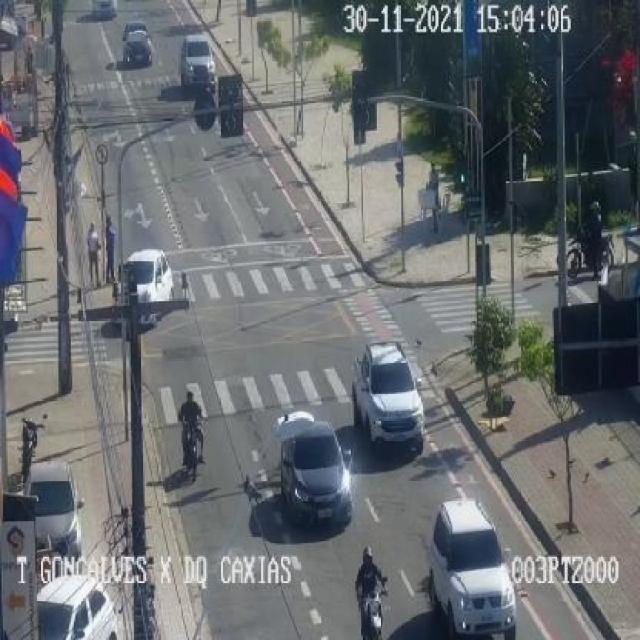Car: (431, 501, 516, 636), (341, 331, 427, 444), (274, 413, 354, 525), (18, 461, 81, 561), (36, 576, 117, 639), (120, 248, 175, 326), (180, 35, 216, 88), (122, 22, 153, 65)
Cycle: (550, 228, 622, 283), (351, 555, 395, 639), (175, 382, 211, 482)
